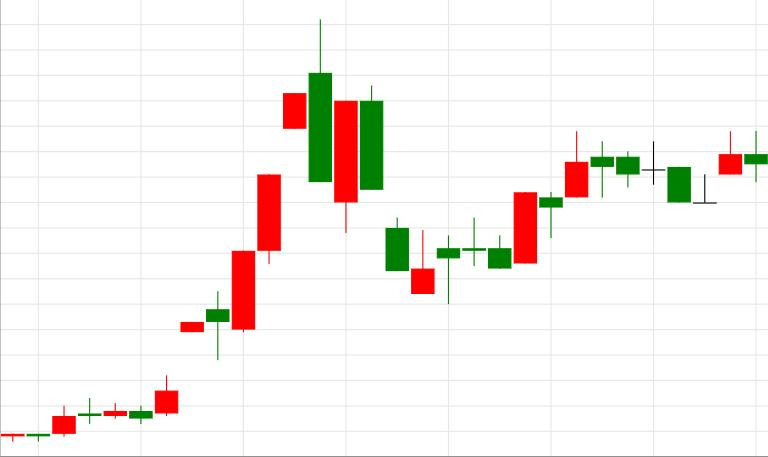bearish_engulfing_fall: (155, 18, 332, 417)
